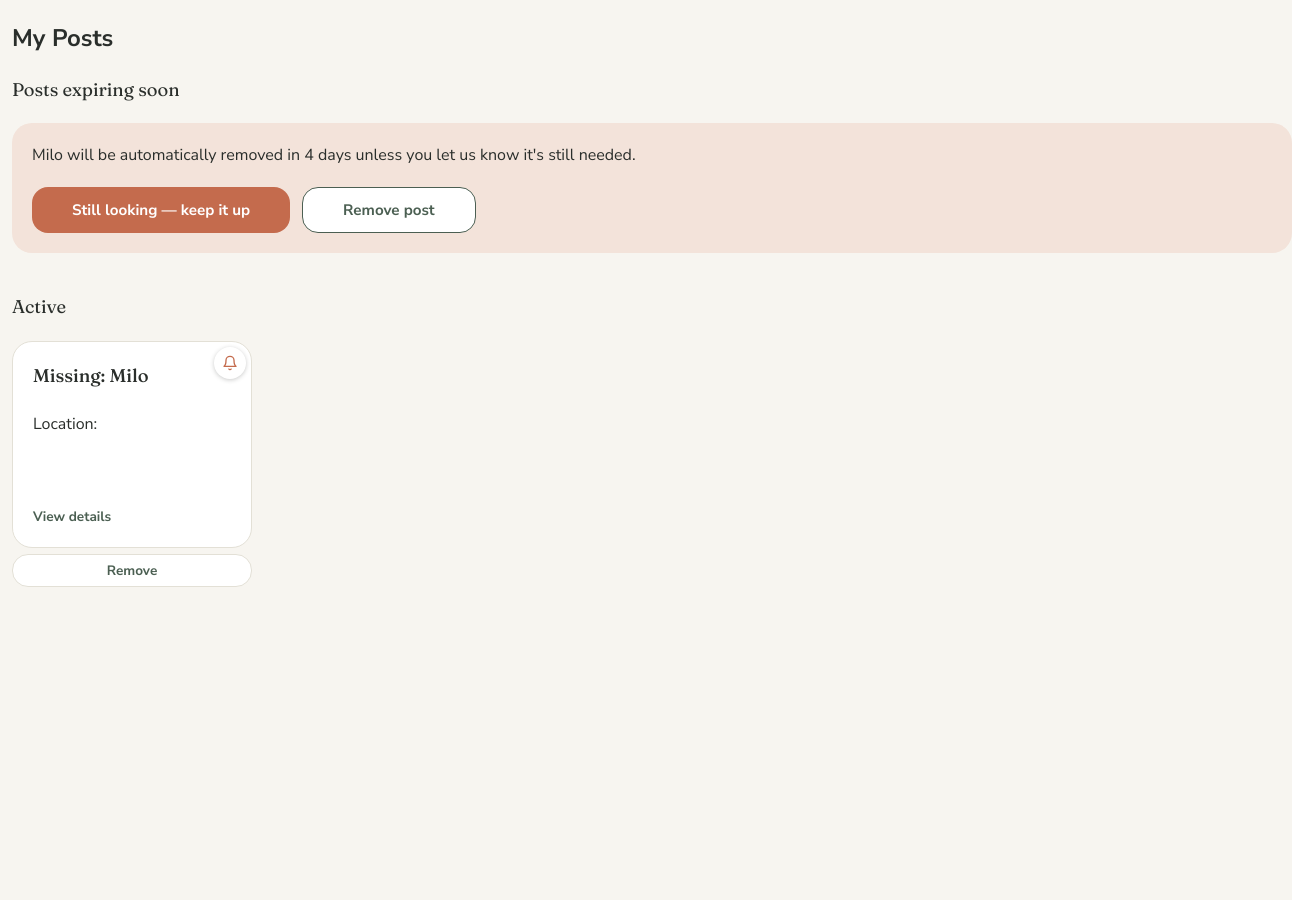
Test: shows an inline error and does not update the post in state when renew fails
The image size is (1292, 900).
Expected: the heading "Posts expiring soon" is shown, [12, 78, 180, 101]
Click the button "Still looking — keep it up". click: (161, 210)
box: [32, 187, 290, 233]
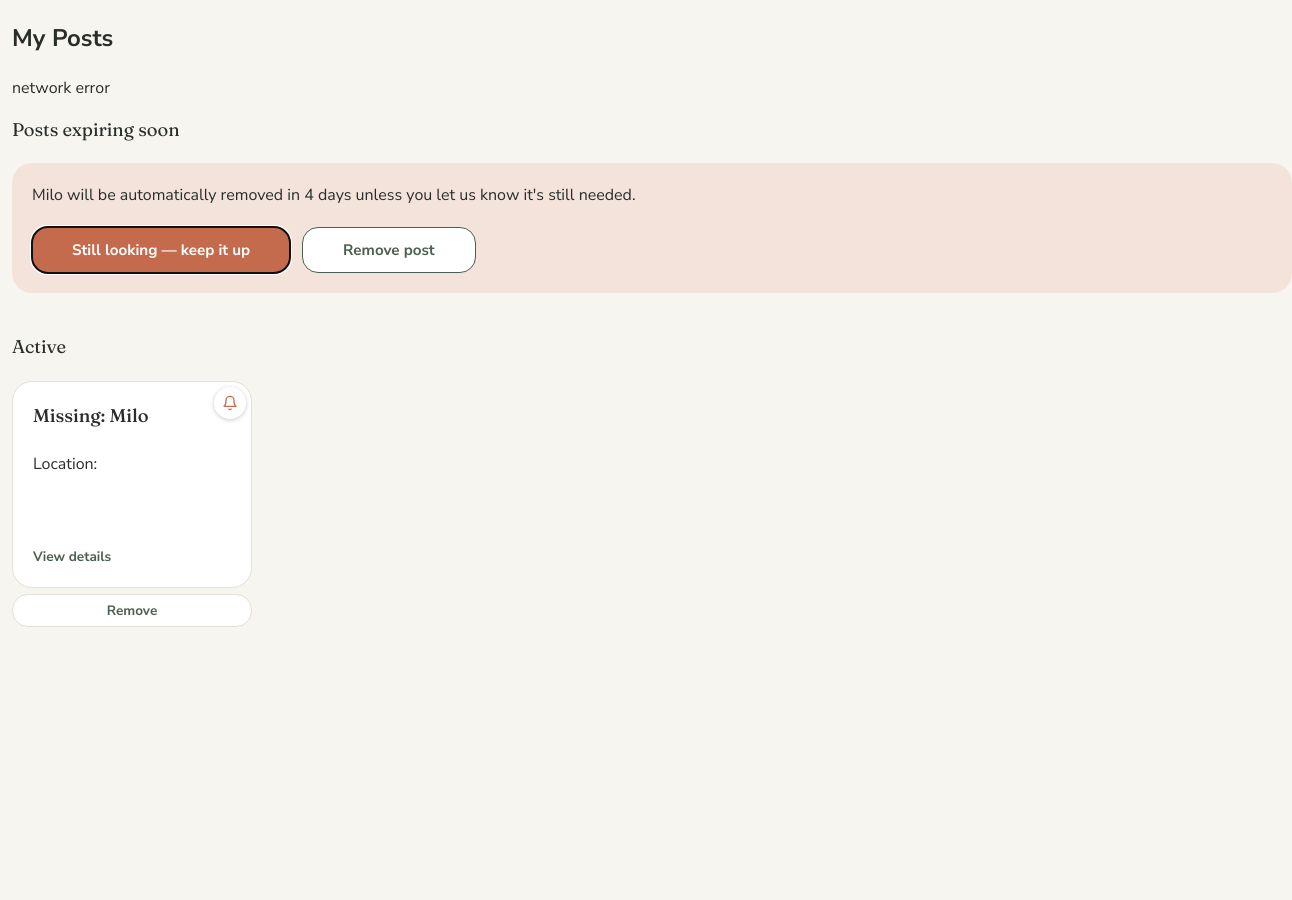
Expected: the heading "Posts expiring soon" is shown, [12, 118, 180, 141]
Expected: the message reads "network error", [12, 77, 110, 99]
